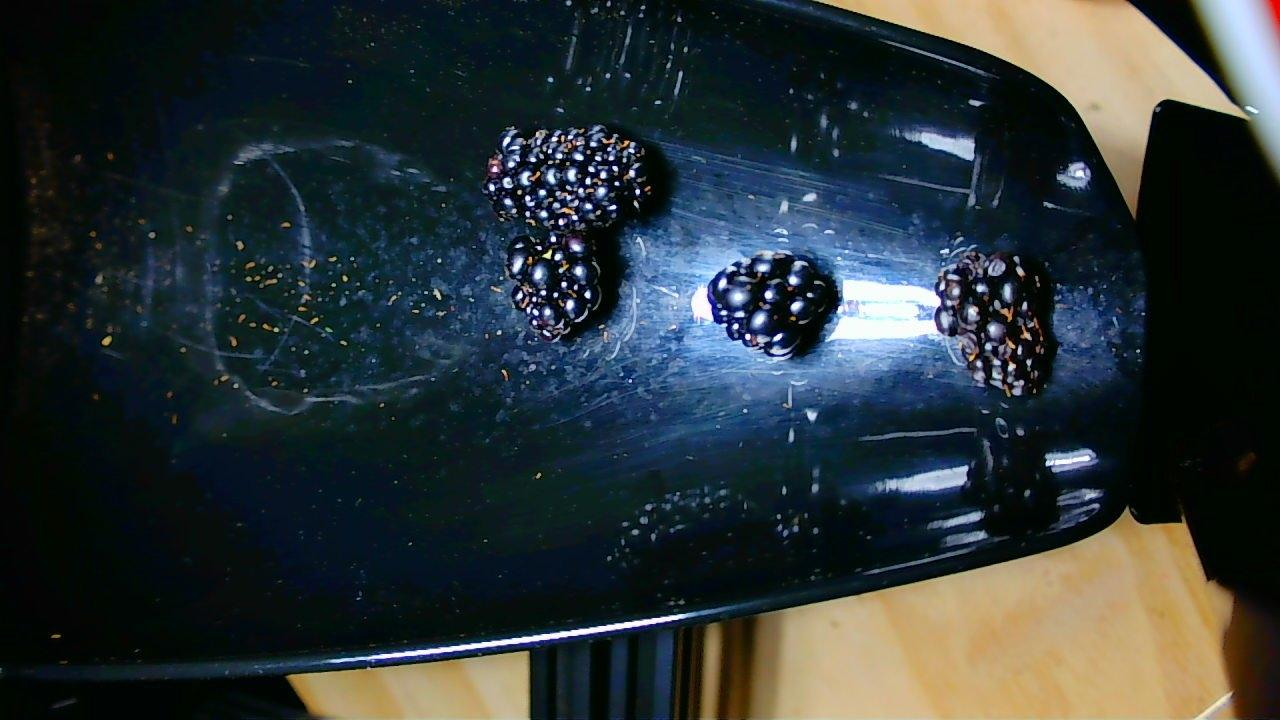berry: (488, 122, 654, 236), (933, 247, 1055, 398), (706, 252, 840, 352), (508, 231, 606, 347)
